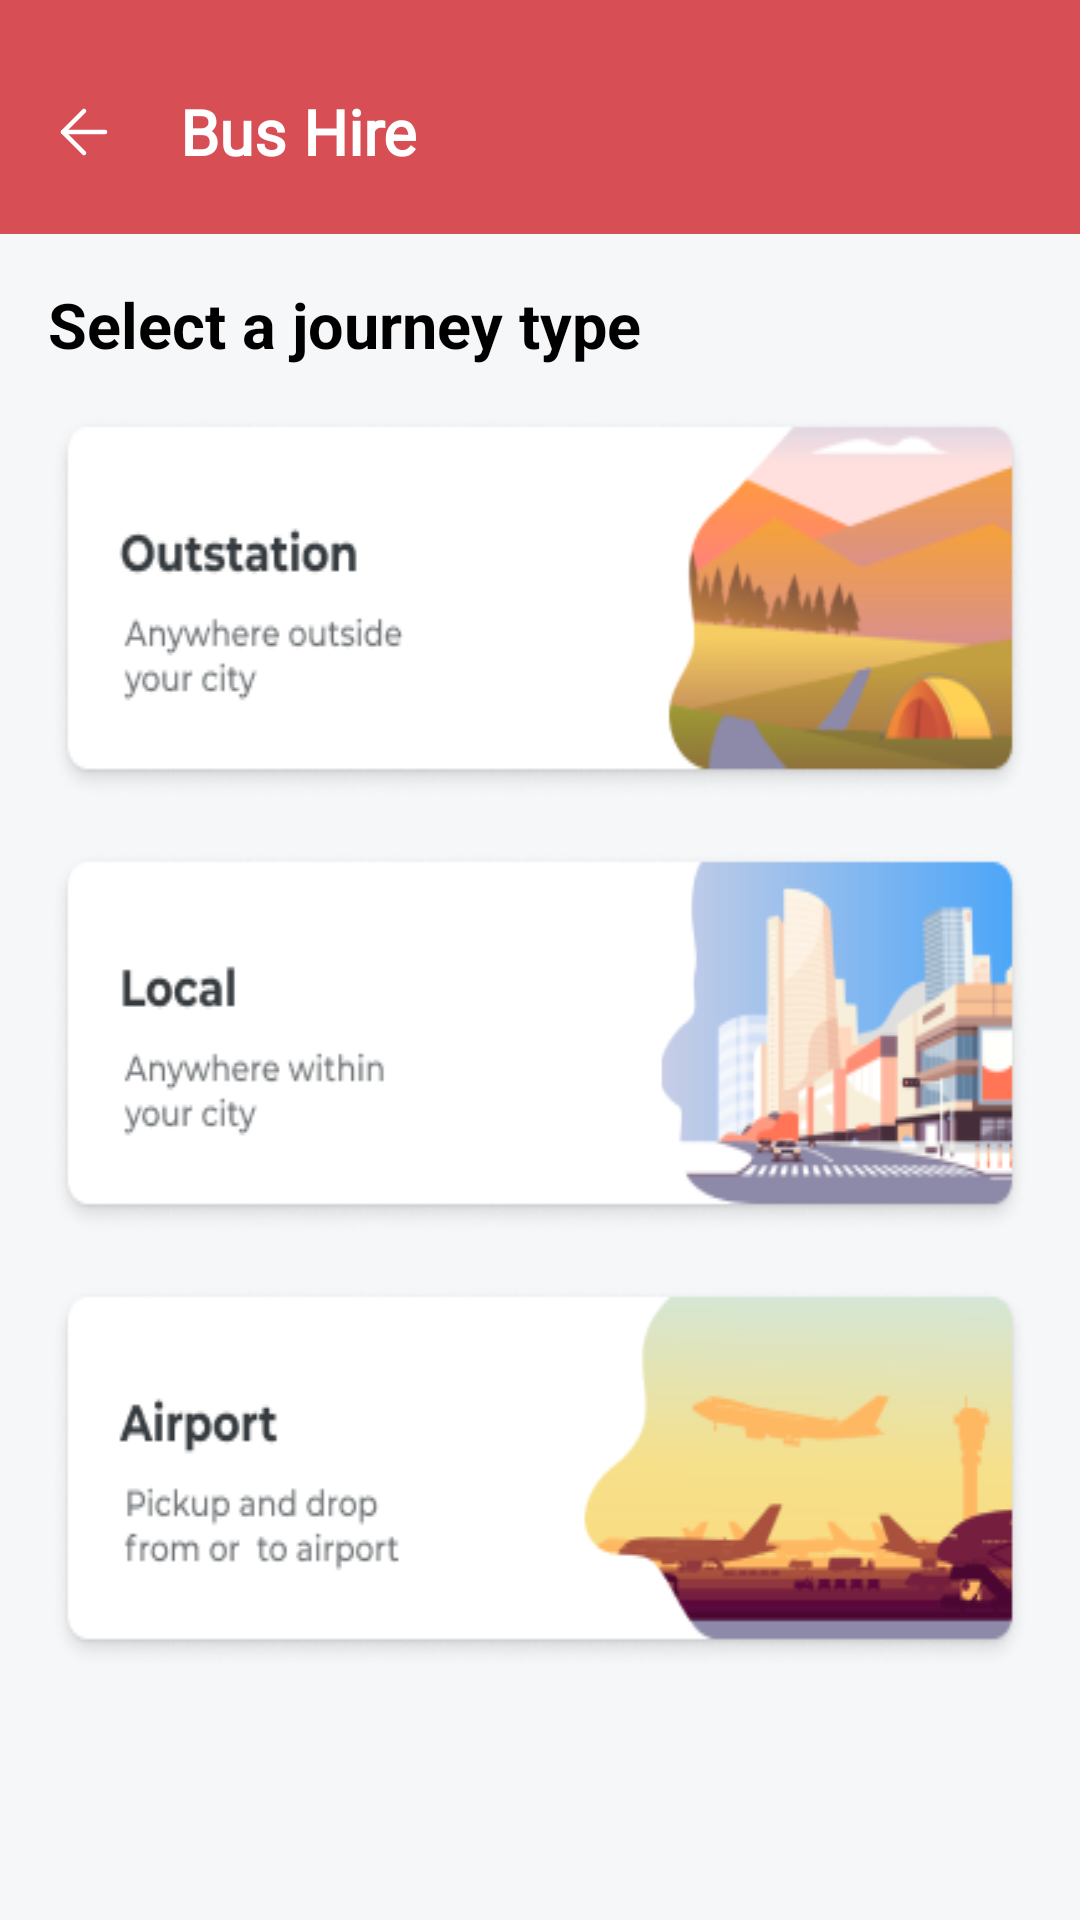

Screen size 1080 x 1920. Icon name, then its box in pixels as (x1, y1, x2, y2):
back arrow: (60, 108, 107, 156)
